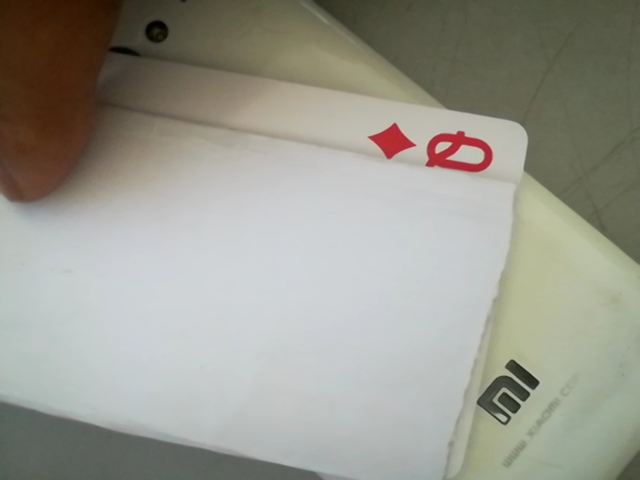fk q: (365, 120, 513, 177)
